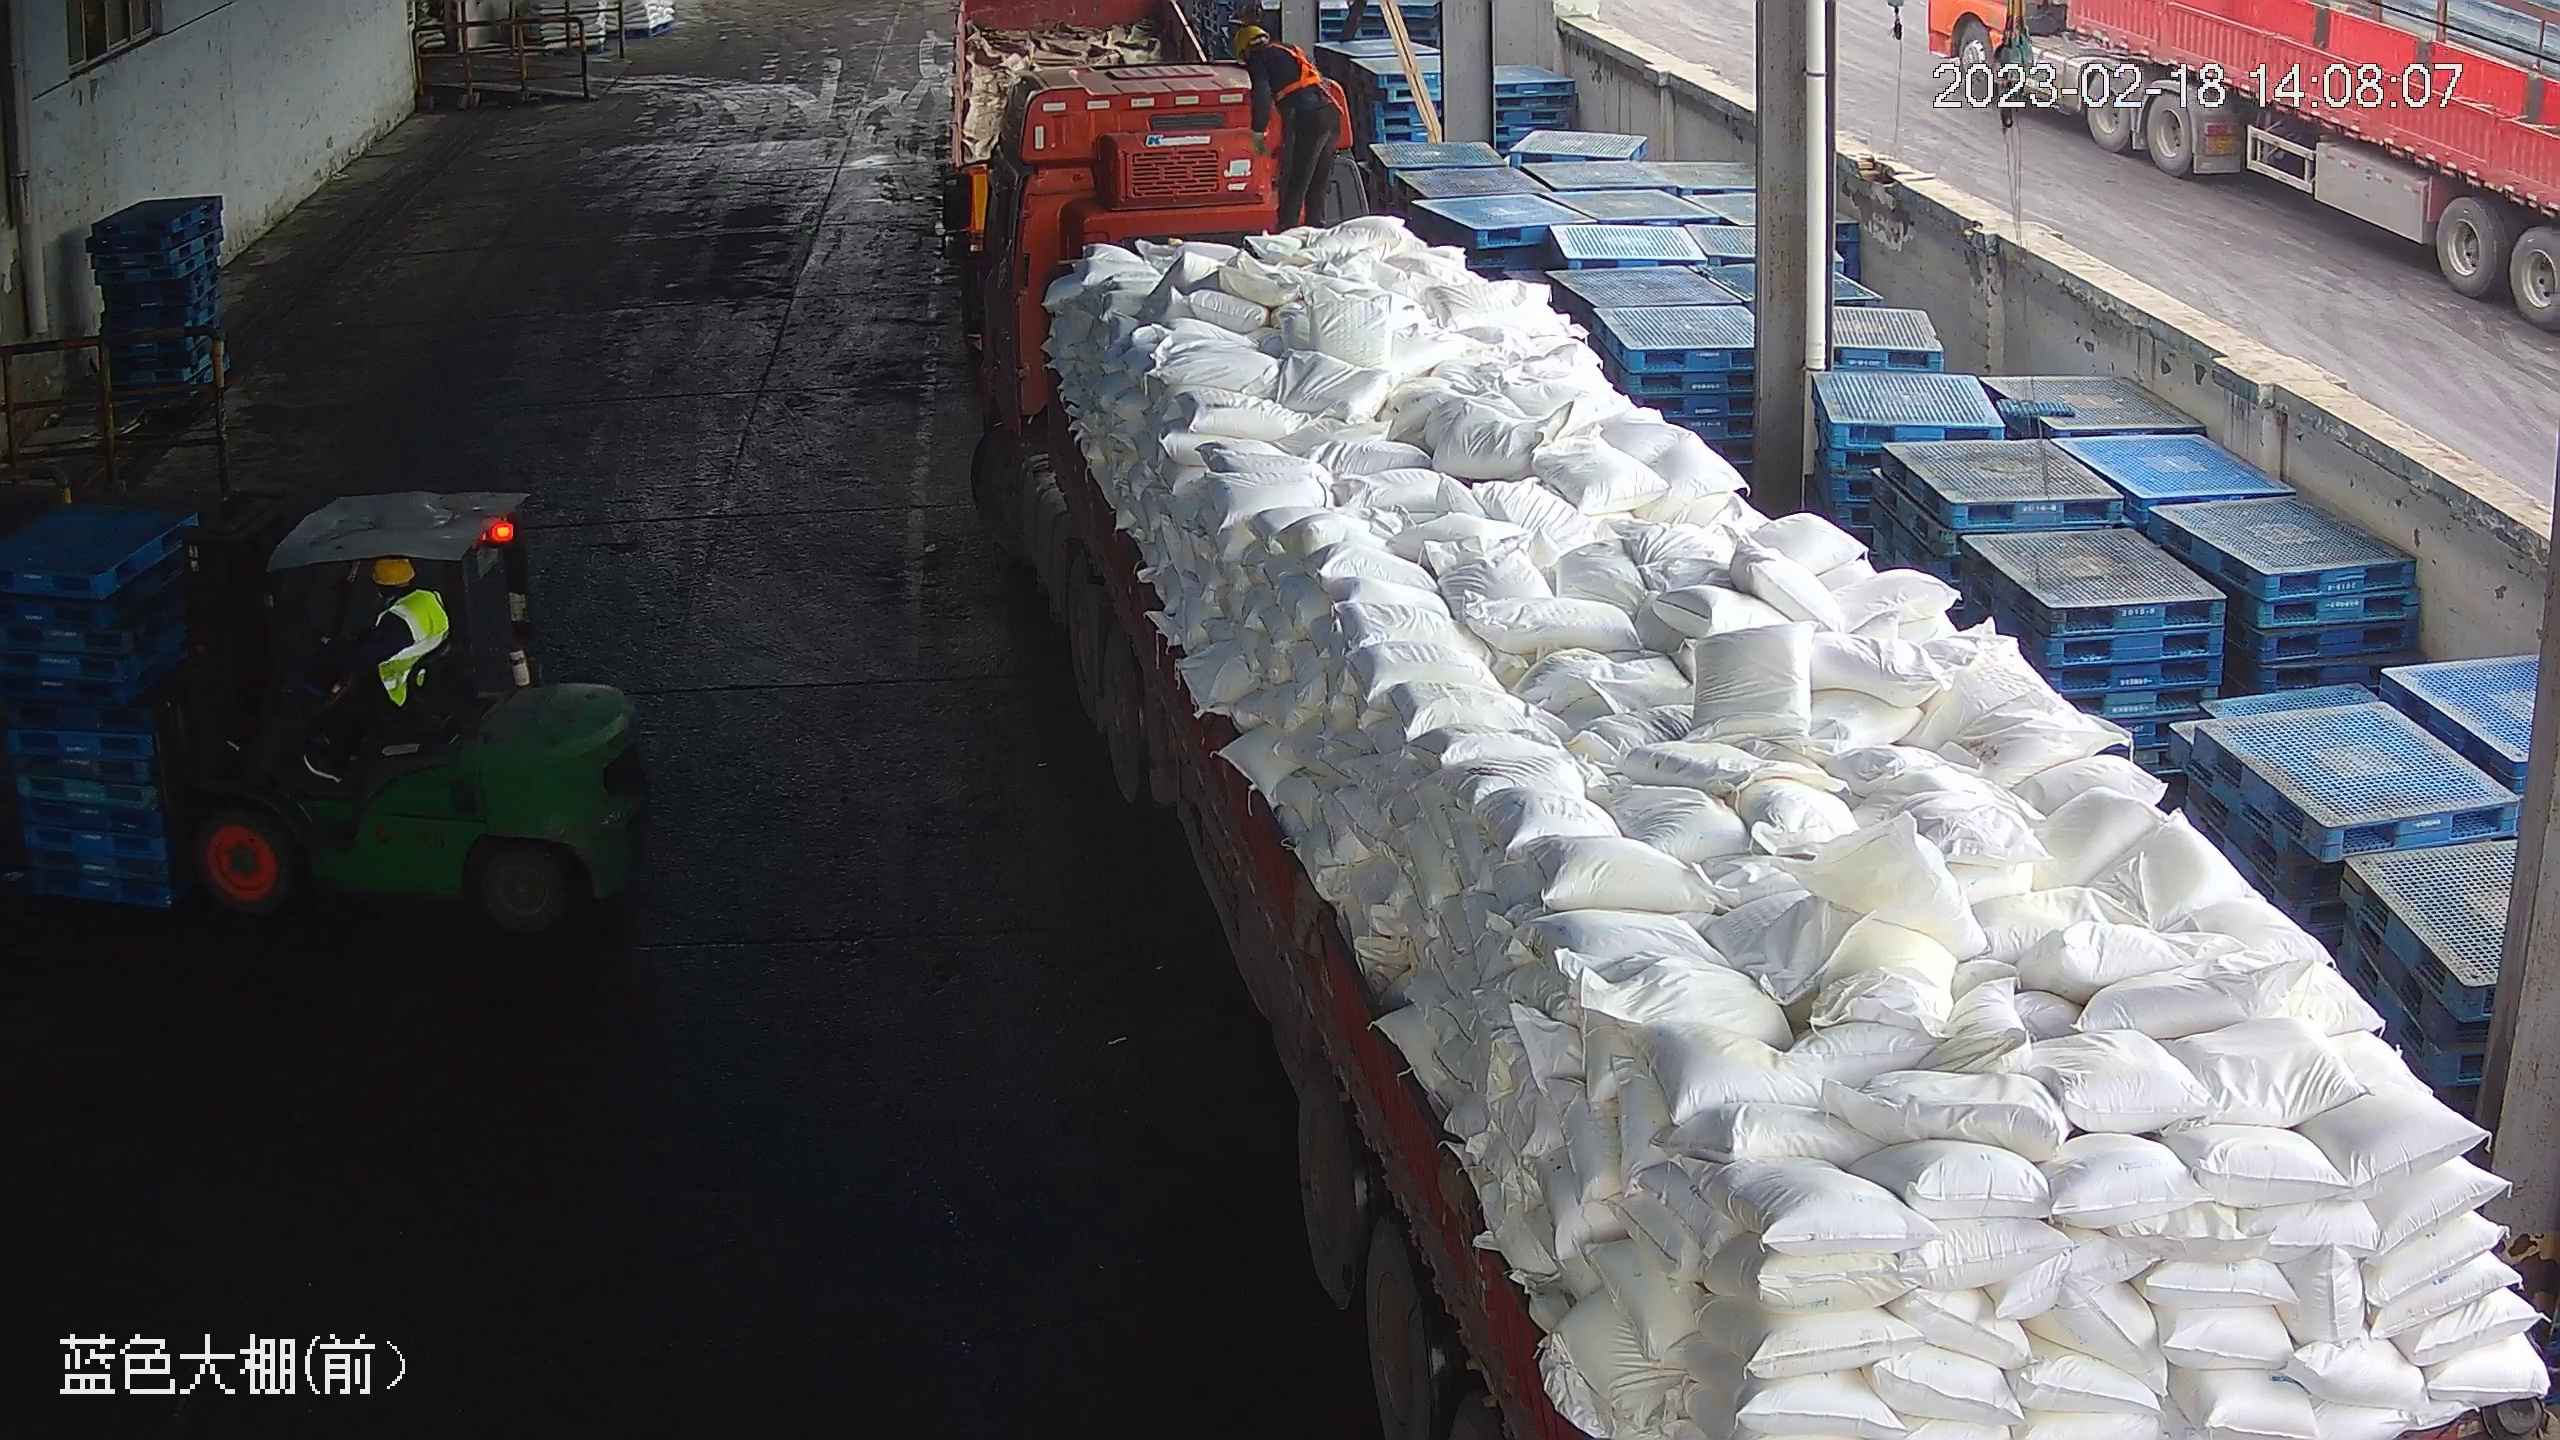belt: (1268, 43, 1331, 98)
head: (347, 556, 456, 671), (1232, 24, 1314, 107)
helmet: (1232, 25, 1271, 59), (372, 557, 413, 585)
people: (284, 559, 459, 789), (1232, 22, 1347, 233)
truck: (944, 56, 2560, 1440)
